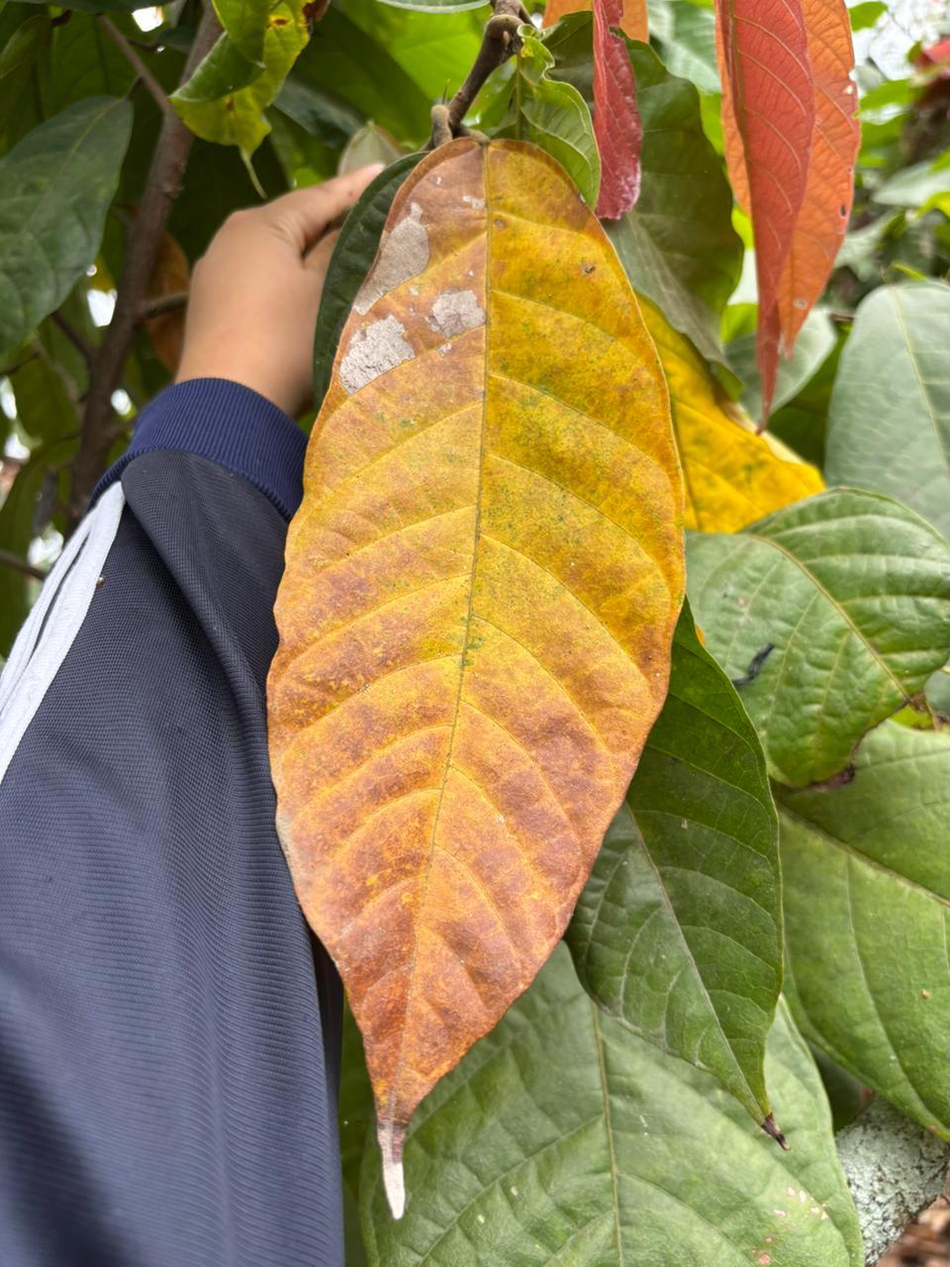deficienciia_fosforo: (268, 139, 684, 1217)
